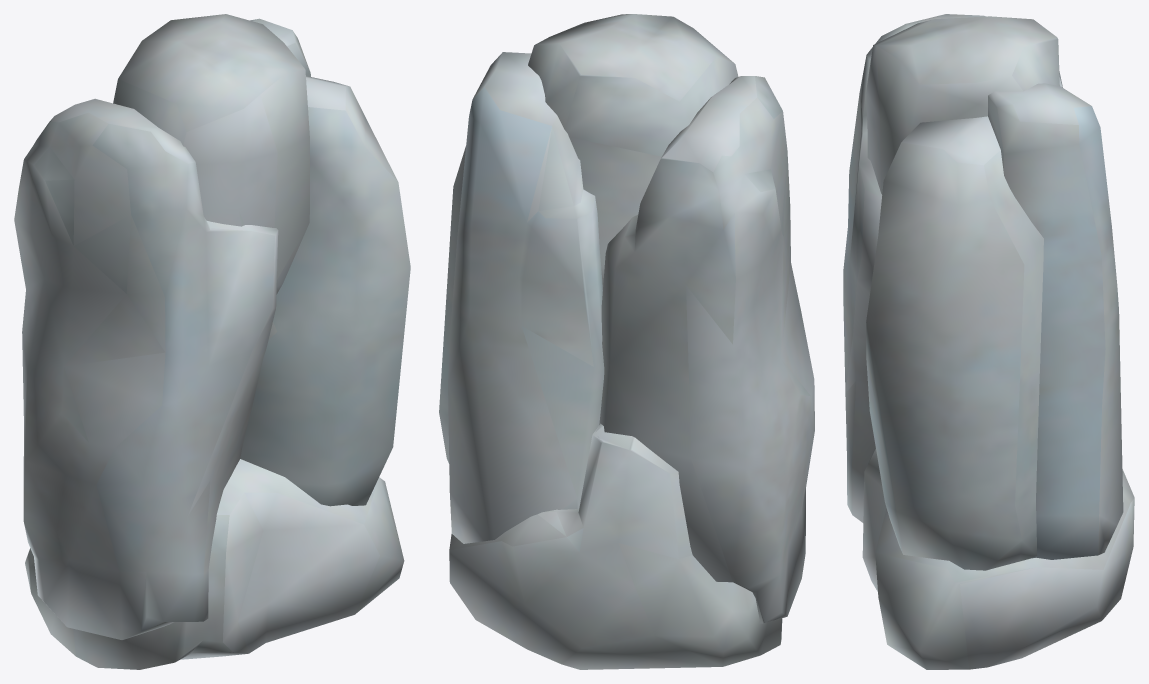
The model's file is P_RockSpire_Spire06.obj.
3 views of the same model, side by side, from view 1: azimuth 30°, elevation 25°; view 2: azimuth 150°, elevation 25°; view 3: azimuth 270°, elevation 25° (orthographic).
Size of the model in its own units: 51.72 by 83.28 by 37.53.
